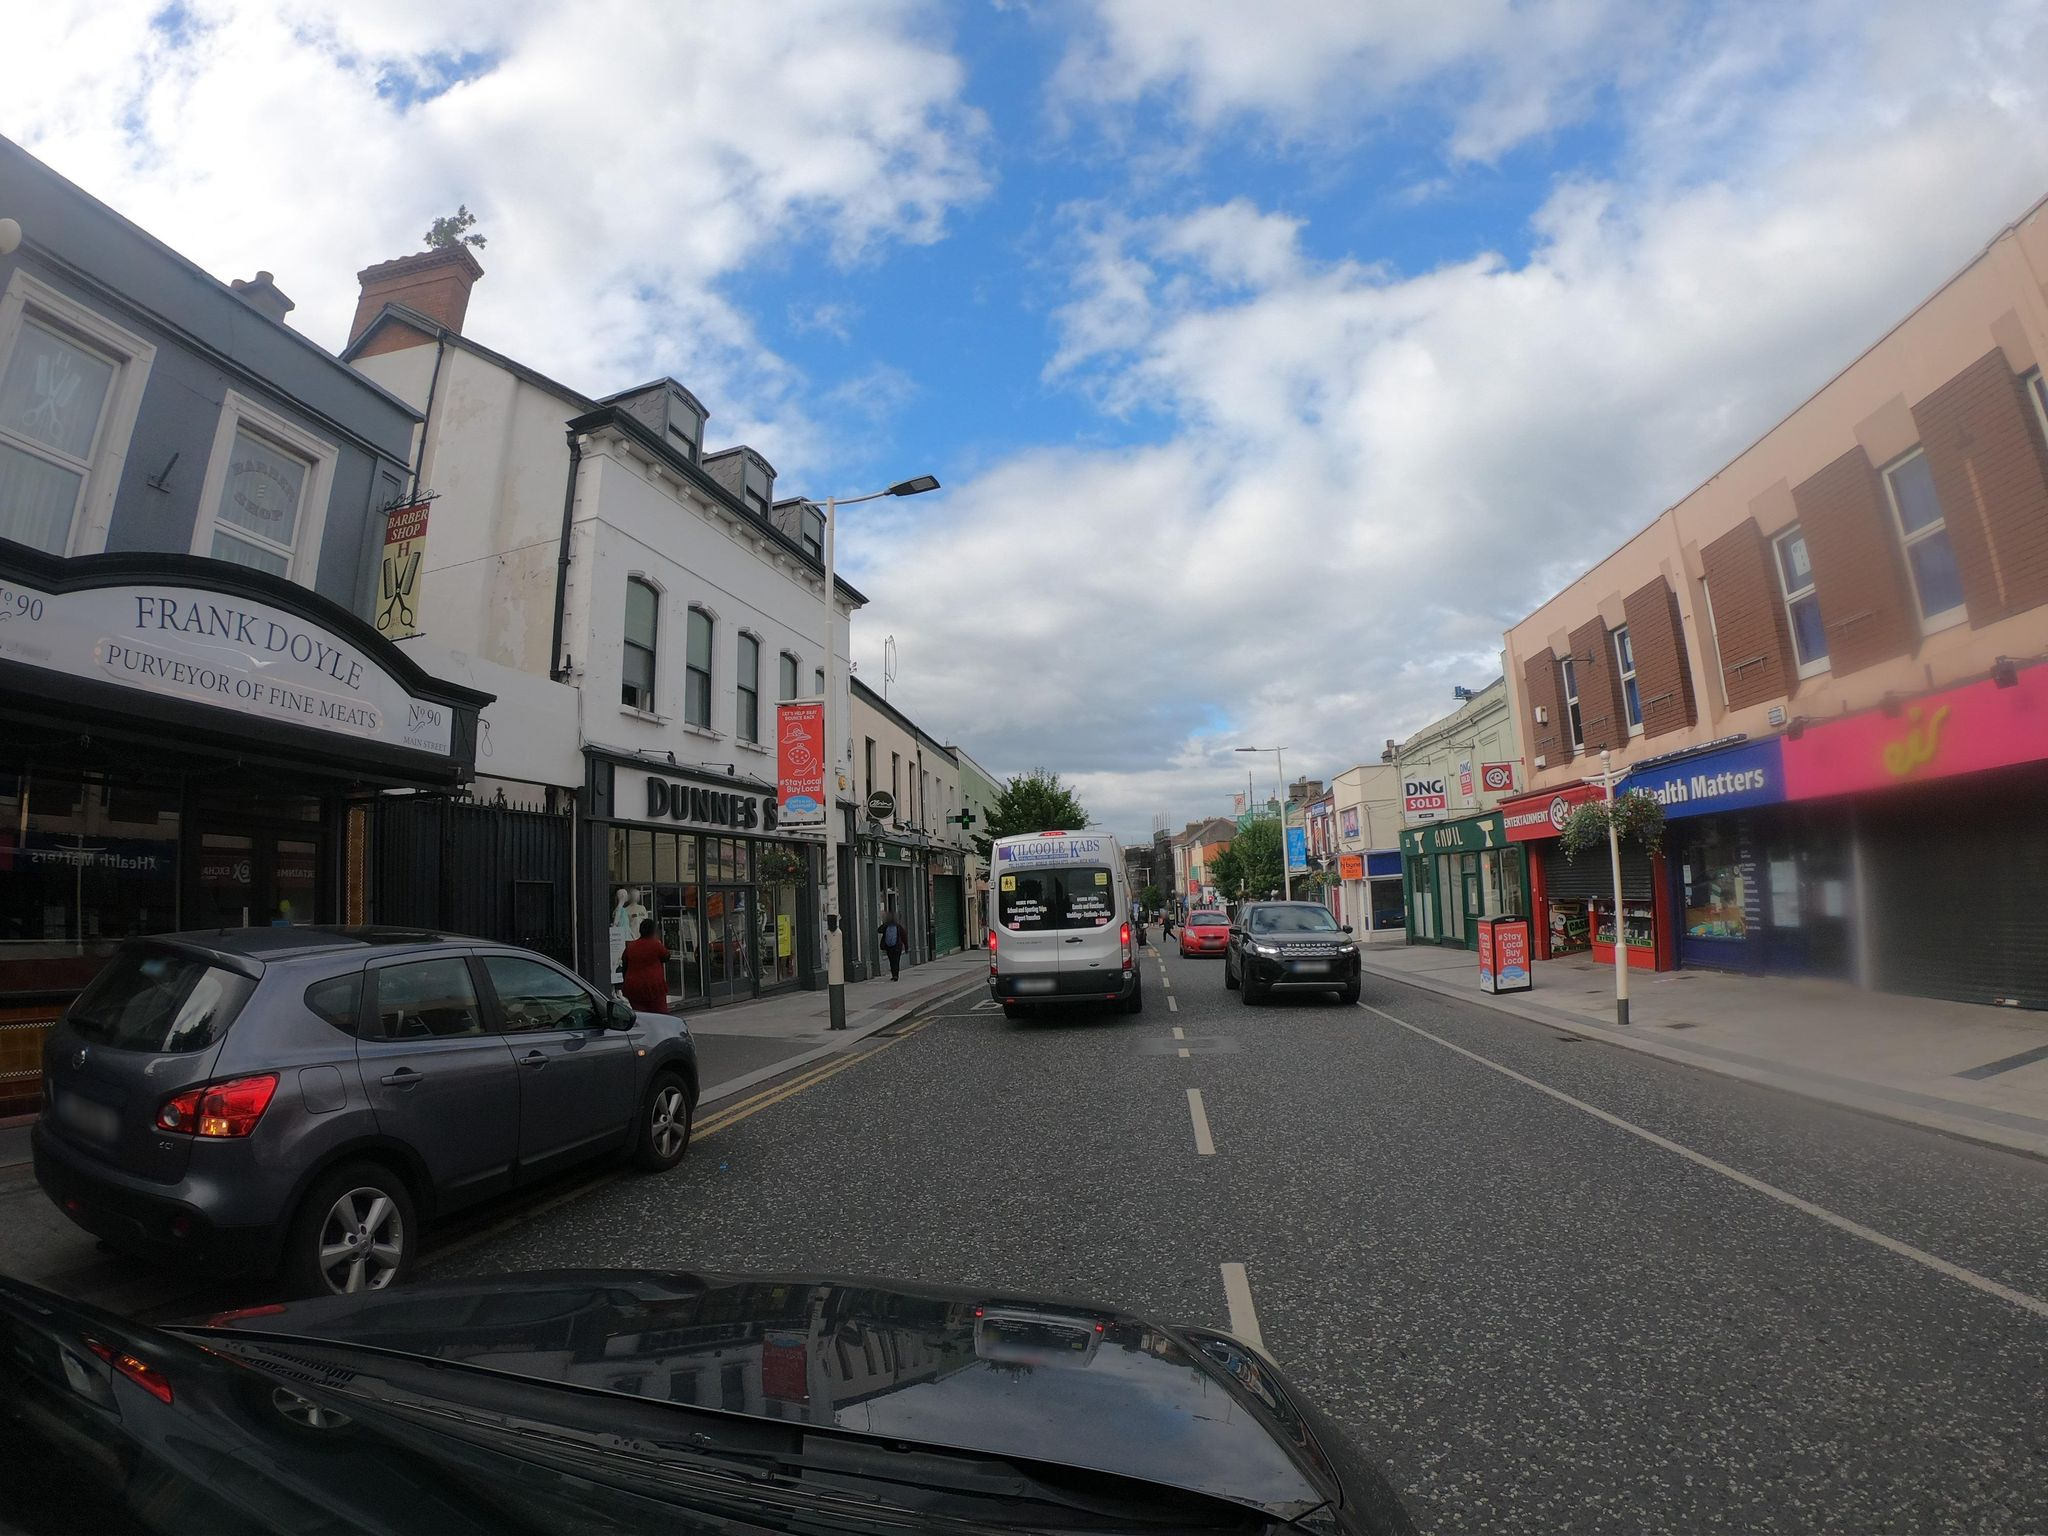property sign: (1393, 753, 1458, 834)
